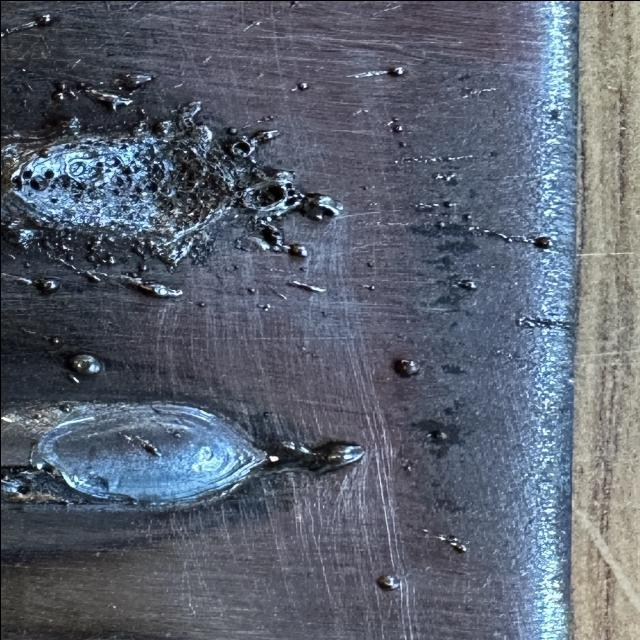Excess Reinforcement: (133, 230, 200, 268), (315, 441, 365, 465)
Porosity: (10, 124, 233, 238), (235, 164, 340, 252), (227, 139, 253, 156), (28, 175, 47, 190), (180, 114, 193, 126), (130, 159, 138, 167)
Spatters: (117, 274, 182, 295), (85, 88, 132, 110), (67, 352, 102, 374), (375, 574, 400, 590), (447, 535, 467, 552), (400, 359, 420, 375), (38, 278, 60, 291), (532, 235, 552, 249), (288, 242, 307, 256), (453, 279, 477, 290), (428, 429, 447, 439), (50, 90, 65, 101), (233, 238, 245, 249), (388, 66, 403, 74), (38, 12, 50, 22), (67, 372, 78, 382), (295, 81, 307, 90), (48, 336, 60, 344), (107, 254, 116, 264), (288, 0, 298, 8), (260, 302, 270, 310), (432, 172, 442, 179), (247, 286, 255, 294), (403, 464, 412, 471), (393, 124, 402, 131), (363, 284, 373, 290), (255, 71, 263, 78), (444, 200, 452, 207), (67, 252, 74, 260), (120, 432, 129, 438), (202, 55, 209, 62), (437, 220, 444, 227), (463, 212, 471, 218), (15, 66, 24, 71), (99, 257, 106, 263), (298, 344, 304, 350), (138, 108, 144, 114), (266, 114, 272, 119), (199, 301, 205, 305)
